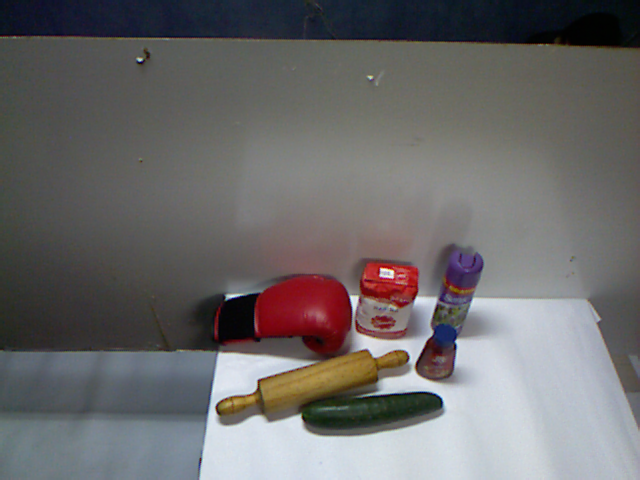borrador: (244, 357, 327, 401)
greda: (396, 302, 485, 389)
harina: (226, 259, 294, 346)
ketchup: (294, 281, 338, 349)
lata: (345, 292, 385, 357)
pelota: (345, 360, 389, 403)
